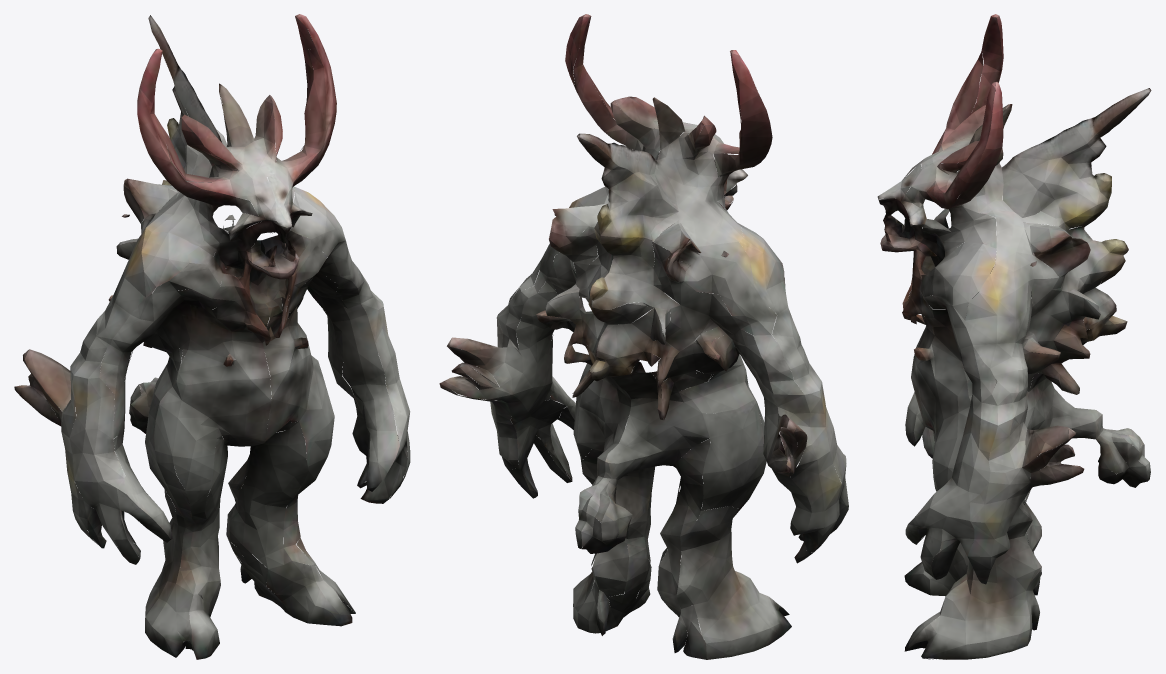
3 views of the same model, side by side, from view 1: azimuth 30°, elevation 25°; view 2: azimuth 150°, elevation 25°; view 3: azimuth 270°, elevation 25° (orthographic). The views are drawn at different scales.
Visible parts, largest first — view 1: world; view 2: world; view 3: world.
Part boxes in pixels (x1,y1,x2,y2): world: (14, 14, 410, 659); world: (439, 14, 848, 659); world: (877, 14, 1151, 659).
Size of the model in its own units: 0.6124 by 1 by 0.4378.
Materials: 1 (1 with a texture image).
